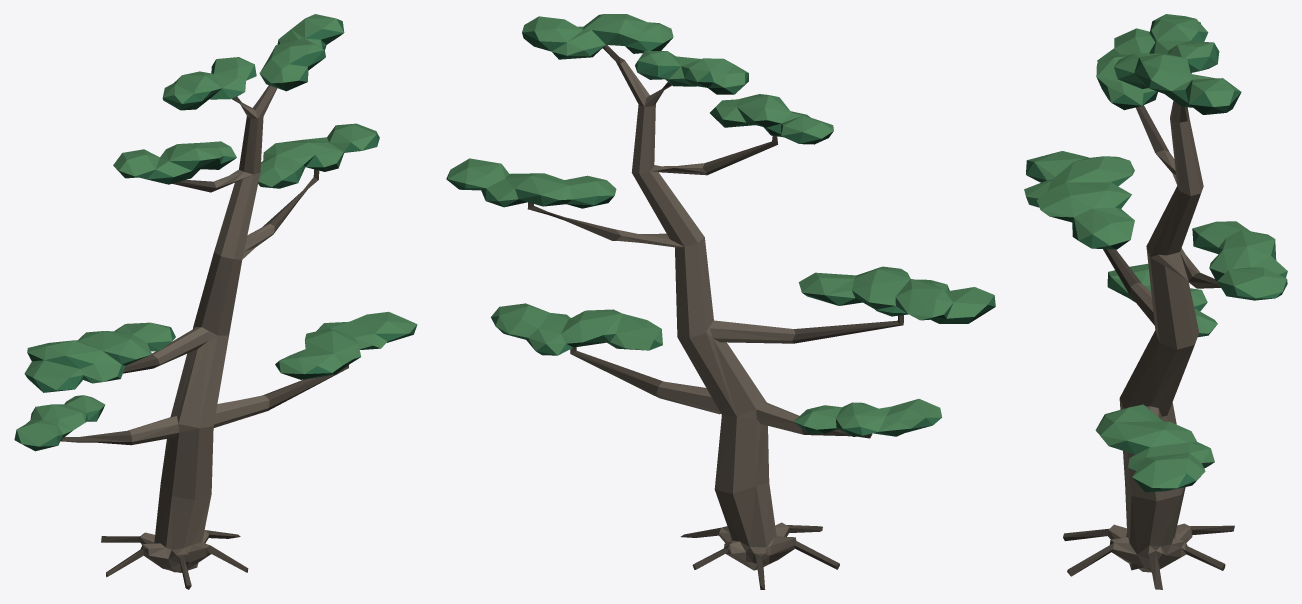
The model's file is ancient-pine-4128-lod2.glb.
The picture shows the model from 3 angles, left to right: view 1: azimuth 30°, elevation 25°; view 2: azimuth 150°, elevation 25°; view 3: azimuth 270°, elevation 25°; orthographic projection. The views are drawn at different scales.
Parts seen in each view (by area): view 1: n12.006, n8.006, n11.006, n9.006, n10.006; view 2: n12.006, n8.006, n9.006, n11.006, n10.006; view 3: n12.006, n8.006, n11.006, n9.006, n10.006.
Part boxes in pixels (bbox=[...]): n12.006: bbox=[16, 14, 417, 446]; n8.006: bbox=[128, 85, 277, 572]; n11.006: bbox=[14, 19, 416, 446]; n9.006: bbox=[60, 96, 348, 589]; n10.006: bbox=[22, 33, 413, 451]; n12.006: bbox=[447, 14, 994, 431]; n8.006: bbox=[615, 60, 803, 570]; n9.006: bbox=[527, 45, 903, 589]; n11.006: bbox=[446, 30, 995, 435]; n10.006: bbox=[446, 33, 995, 436]; n12.006: bbox=[1024, 14, 1287, 488]; n8.006: bbox=[1107, 100, 1203, 572]; n11.006: bbox=[1026, 21, 1287, 491]; n9.006: bbox=[1063, 105, 1234, 589]; n10.006: bbox=[1031, 31, 1286, 492].
Bounding box in the file's own units: 4.91 × 5.43 × 2.22.
